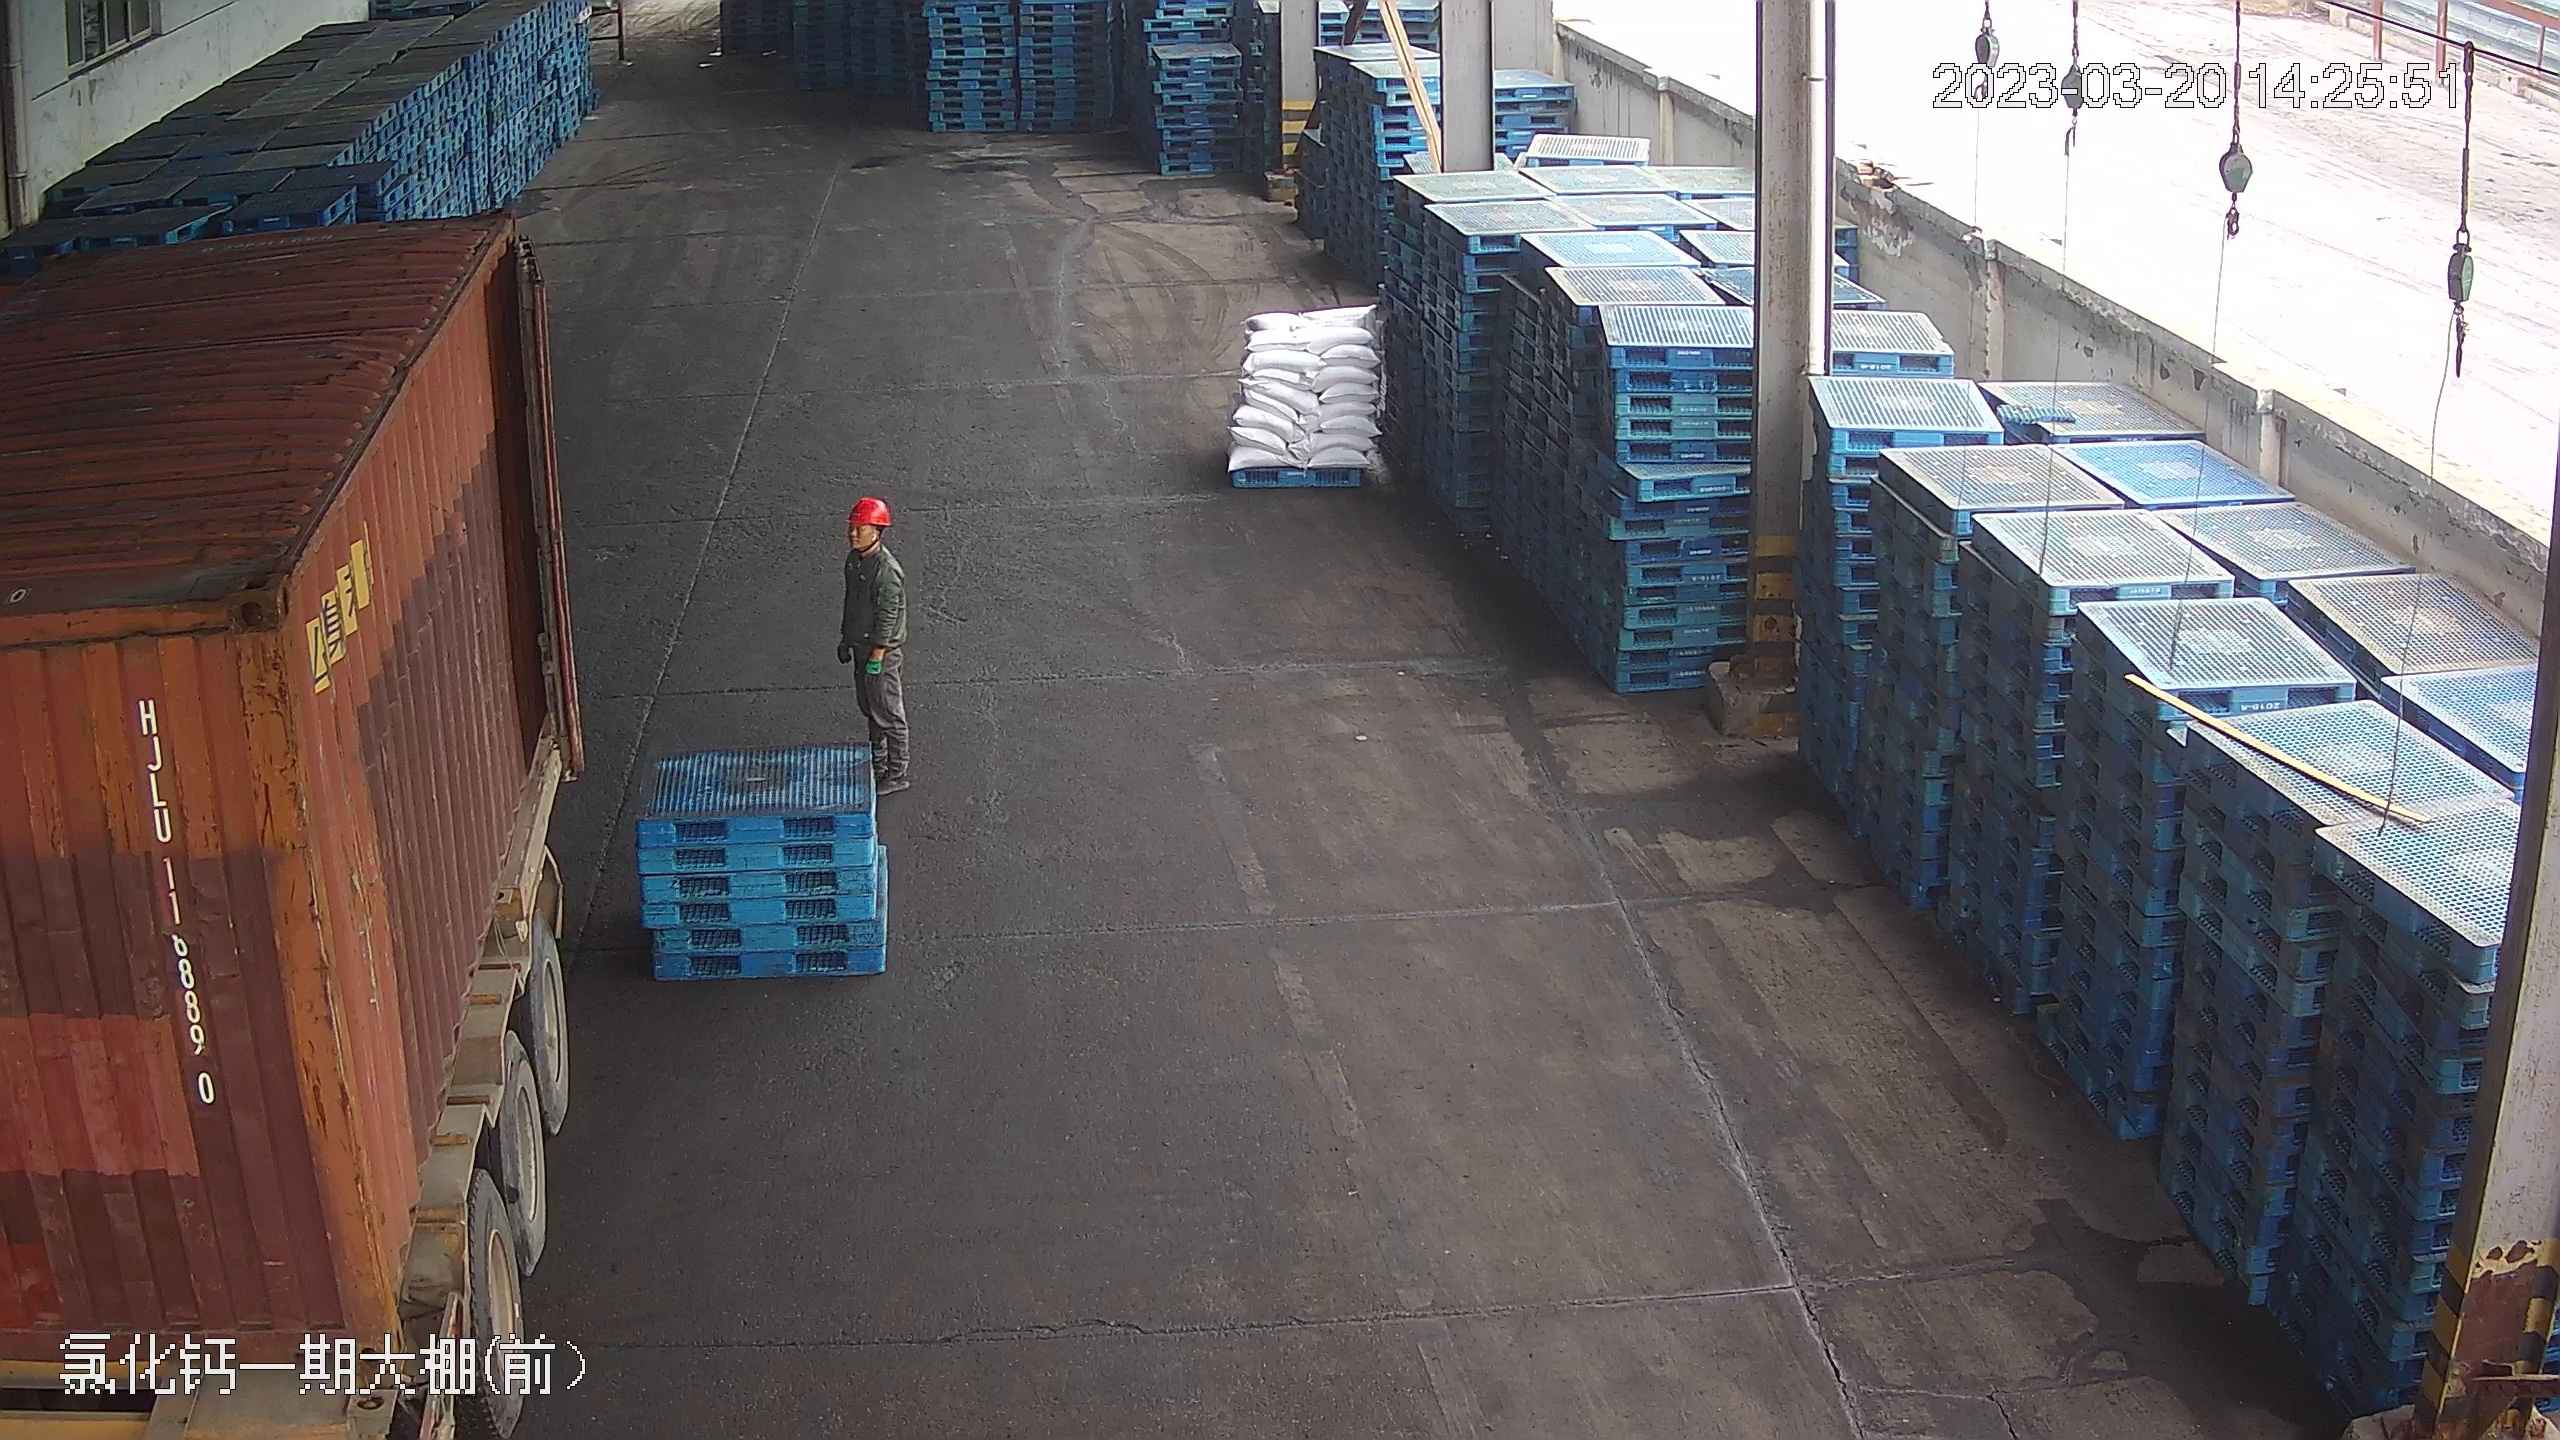head: (832, 494, 912, 608)
helmet: (845, 494, 891, 529)
people: (832, 496, 914, 797)
truck: (0, 192, 628, 1435)
